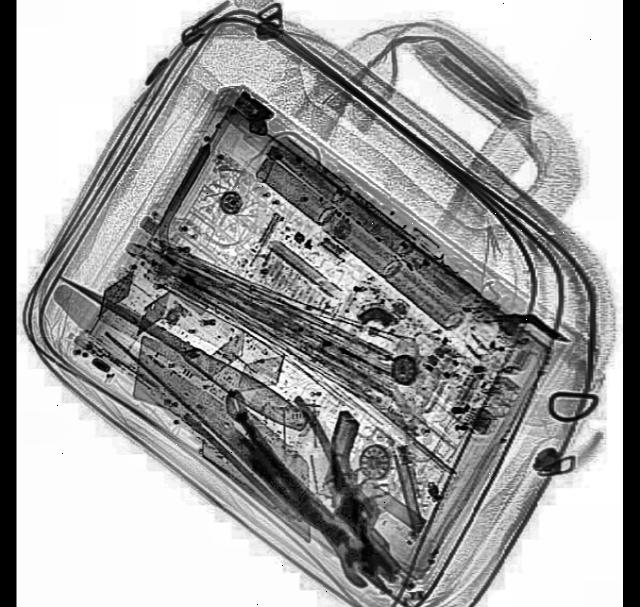Gun: (296, 409, 447, 584)
Knife: (39, 253, 316, 450)
Pliers: (231, 372, 411, 607)
Wrench: (215, 381, 386, 596)
